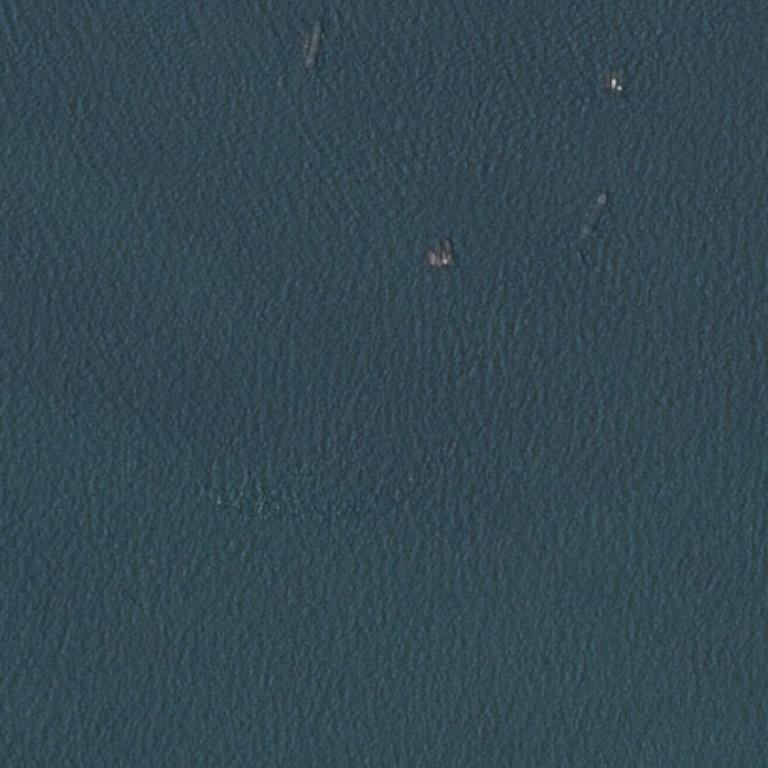ship: (579, 192, 608, 239), (301, 21, 322, 68), (446, 237, 454, 265), (435, 242, 440, 266), (441, 249, 447, 264), (430, 250, 431, 265), (603, 194, 607, 197), (316, 22, 320, 25), (437, 243, 440, 246), (588, 2, 591, 5), (582, 229, 585, 232), (305, 63, 308, 66), (447, 239, 450, 241), (429, 251, 432, 253), (444, 249, 445, 251), (442, 261, 444, 262), (439, 31, 441, 32), (434, 30, 435, 32), (445, 32, 446, 33), (452, 6, 453, 6), (448, 262, 449, 262), (437, 264, 437, 264), (431, 264, 431, 264), (312, 64, 312, 66)
